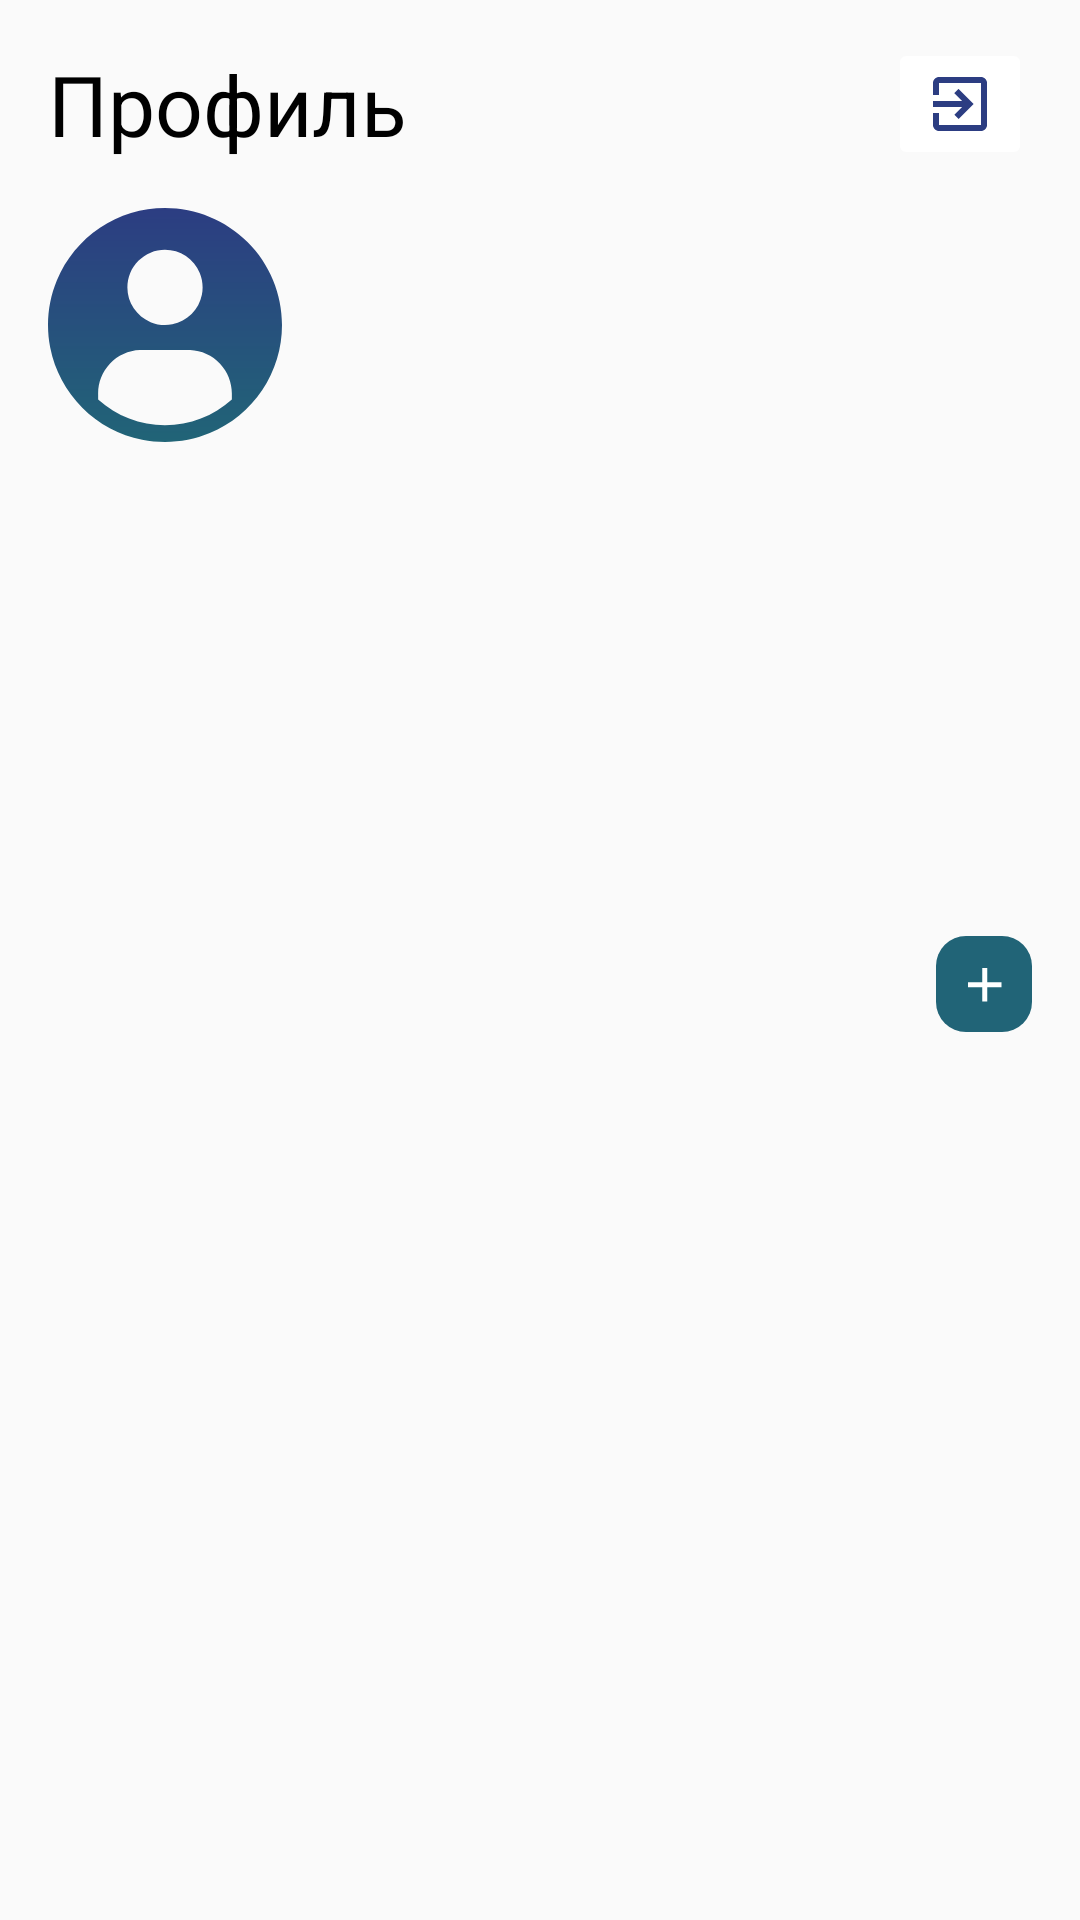

Named icons in this screenshot (1080x1920) and their centers, point (x, y):
add: point (984, 984)
exit to app: point (960, 104)
